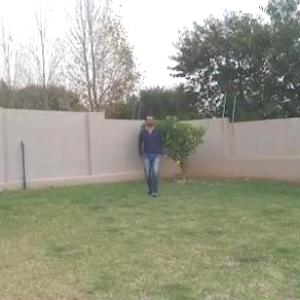follow: (142, 113, 163, 200)
